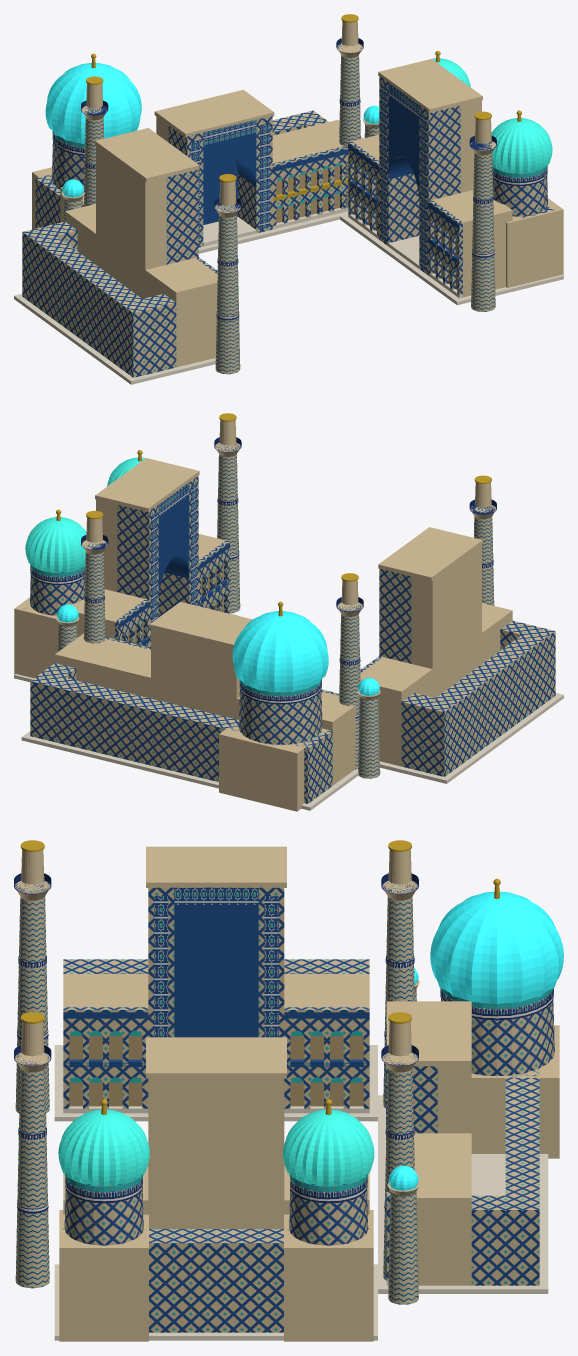
Rendered from registan.glb.
3 renders of one model, top to bottom at view 1: azimuth 30°, elevation 25°; view 2: azimuth 150°, elevation 25°; view 3: azimuth 270°, elevation 25°, orthographic. The views are drawn at different scales.
Visible parts, largest first — view 1: UlughBeg_Buff, UlughBeg_BuffTile, SherDor_Buff, SherDor_BuffTile, TilyaKori_BuffTile, TilyaKori_Buff, TilyaKori_GlazeTK, SherDor_Chevron, UlughBeg_Chevron, TilyaKori_Cobalt, SherDor_GlazeSD, SherDor_Cobalt (+9 smaller); view 2: TilyaKori_Buff, TilyaKori_BuffTile, UlughBeg_Buff, UlughBeg_BuffTile, SherDor_Buff, SherDor_BuffTile, TilyaKori_GlazeTK, SherDor_Chevron, UlughBeg_Chevron, SherDor_GlazeSD, SherDor_Cobalt, TilyaKori_Chevron (+5 smaller); view 3: SherDor_Buff, SherDor_BuffTile, TilyaKori_Buff, TilyaKori_BuffTile, UlughBeg_BuffTile, UlughBeg_Buff, UlughBeg_Cobalt, TilyaKori_GlazeTK, SherDor_GlazeSD, SherDor_Chevron, UlughBeg_Chevron, UlughBeg_GirihFrame (+12 smaller).
Boxes of the visible parts, bbox=[...] form: UlughBeg_Buff: bbox=[65, 83, 240, 367]; UlughBeg_BuffTile: bbox=[22, 169, 217, 377]; SherDor_Buff: bbox=[337, 21, 563, 297]; SherDor_BuffTile: bbox=[348, 75, 554, 294]; TilyaKori_BuffTile: bbox=[35, 110, 348, 247]; TilyaKori_Buff: bbox=[32, 89, 379, 229]; TilyaKori_GlazeTK: bbox=[45, 62, 379, 197]; SherDor_Chevron: bbox=[339, 46, 495, 311]; UlughBeg_Chevron: bbox=[83, 107, 240, 374]; TilyaKori_Cobalt: bbox=[203, 133, 348, 224]; SherDor_GlazeSD: bbox=[432, 58, 552, 173]; SherDor_Cobalt: bbox=[348, 96, 462, 263]; TilyaKori_Buff: bbox=[55, 602, 380, 811]; TilyaKori_BuffTile: bbox=[30, 637, 339, 803]; UlughBeg_Buff: bbox=[337, 482, 512, 766]; UlughBeg_BuffTile: bbox=[360, 568, 555, 776]; SherDor_Buff: bbox=[14, 420, 240, 678]; SherDor_BuffTile: bbox=[23, 476, 229, 647]; TilyaKori_GlazeTK: bbox=[57, 604, 379, 695]; SherDor_Chevron: bbox=[83, 444, 240, 643]; UlughBeg_Chevron: bbox=[339, 506, 494, 769]; SherDor_GlazeSD: bbox=[25, 457, 145, 572]; SherDor_Cobalt: bbox=[118, 495, 229, 645]; TilyaKori_Chevron: bbox=[57, 623, 380, 778]; SherDor_Buff: bbox=[15, 1021, 417, 1341]; SherDor_BuffTile: bbox=[63, 1164, 369, 1332]; TilyaKori_Buff: bbox=[386, 980, 559, 1285]; TilyaKori_BuffTile: bbox=[386, 999, 554, 1285]; UlughBeg_BuffTile: bbox=[63, 886, 369, 1108]; UlughBeg_Buff: bbox=[15, 846, 417, 1007]; UlughBeg_Cobalt: bbox=[63, 905, 369, 1067]; TilyaKori_GlazeTK: bbox=[388, 891, 563, 1190]; SherDor_GlazeSD: bbox=[58, 1109, 374, 1186]; SherDor_Chevron: bbox=[15, 1055, 414, 1288]; UlughBeg_Chevron: bbox=[15, 883, 414, 1113]; UlughBeg_GirihFrame: bbox=[154, 886, 278, 1037].
Bounding box in the file's own units: 40.69 × 17.12 × 32.33.
Materials: 13 (4 with a texture image).
